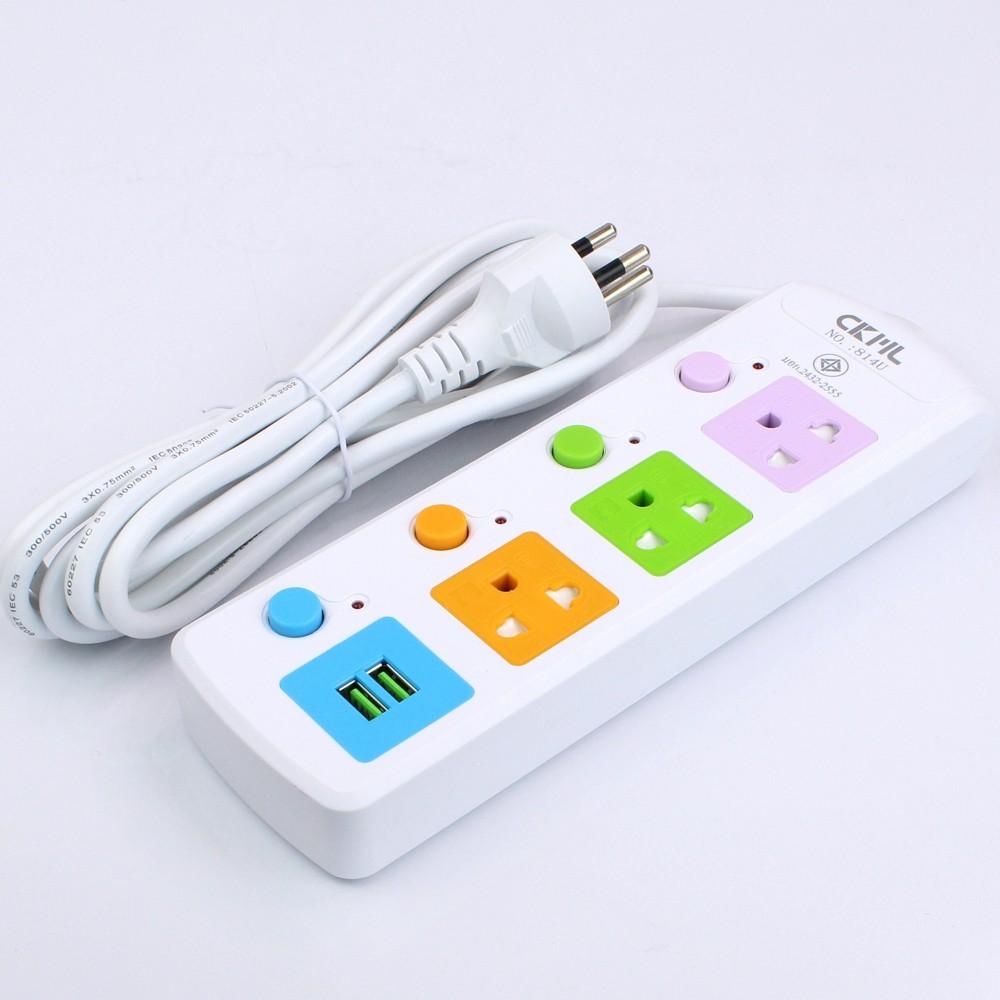Three_eye_plug: (166, 276, 1000, 896)
